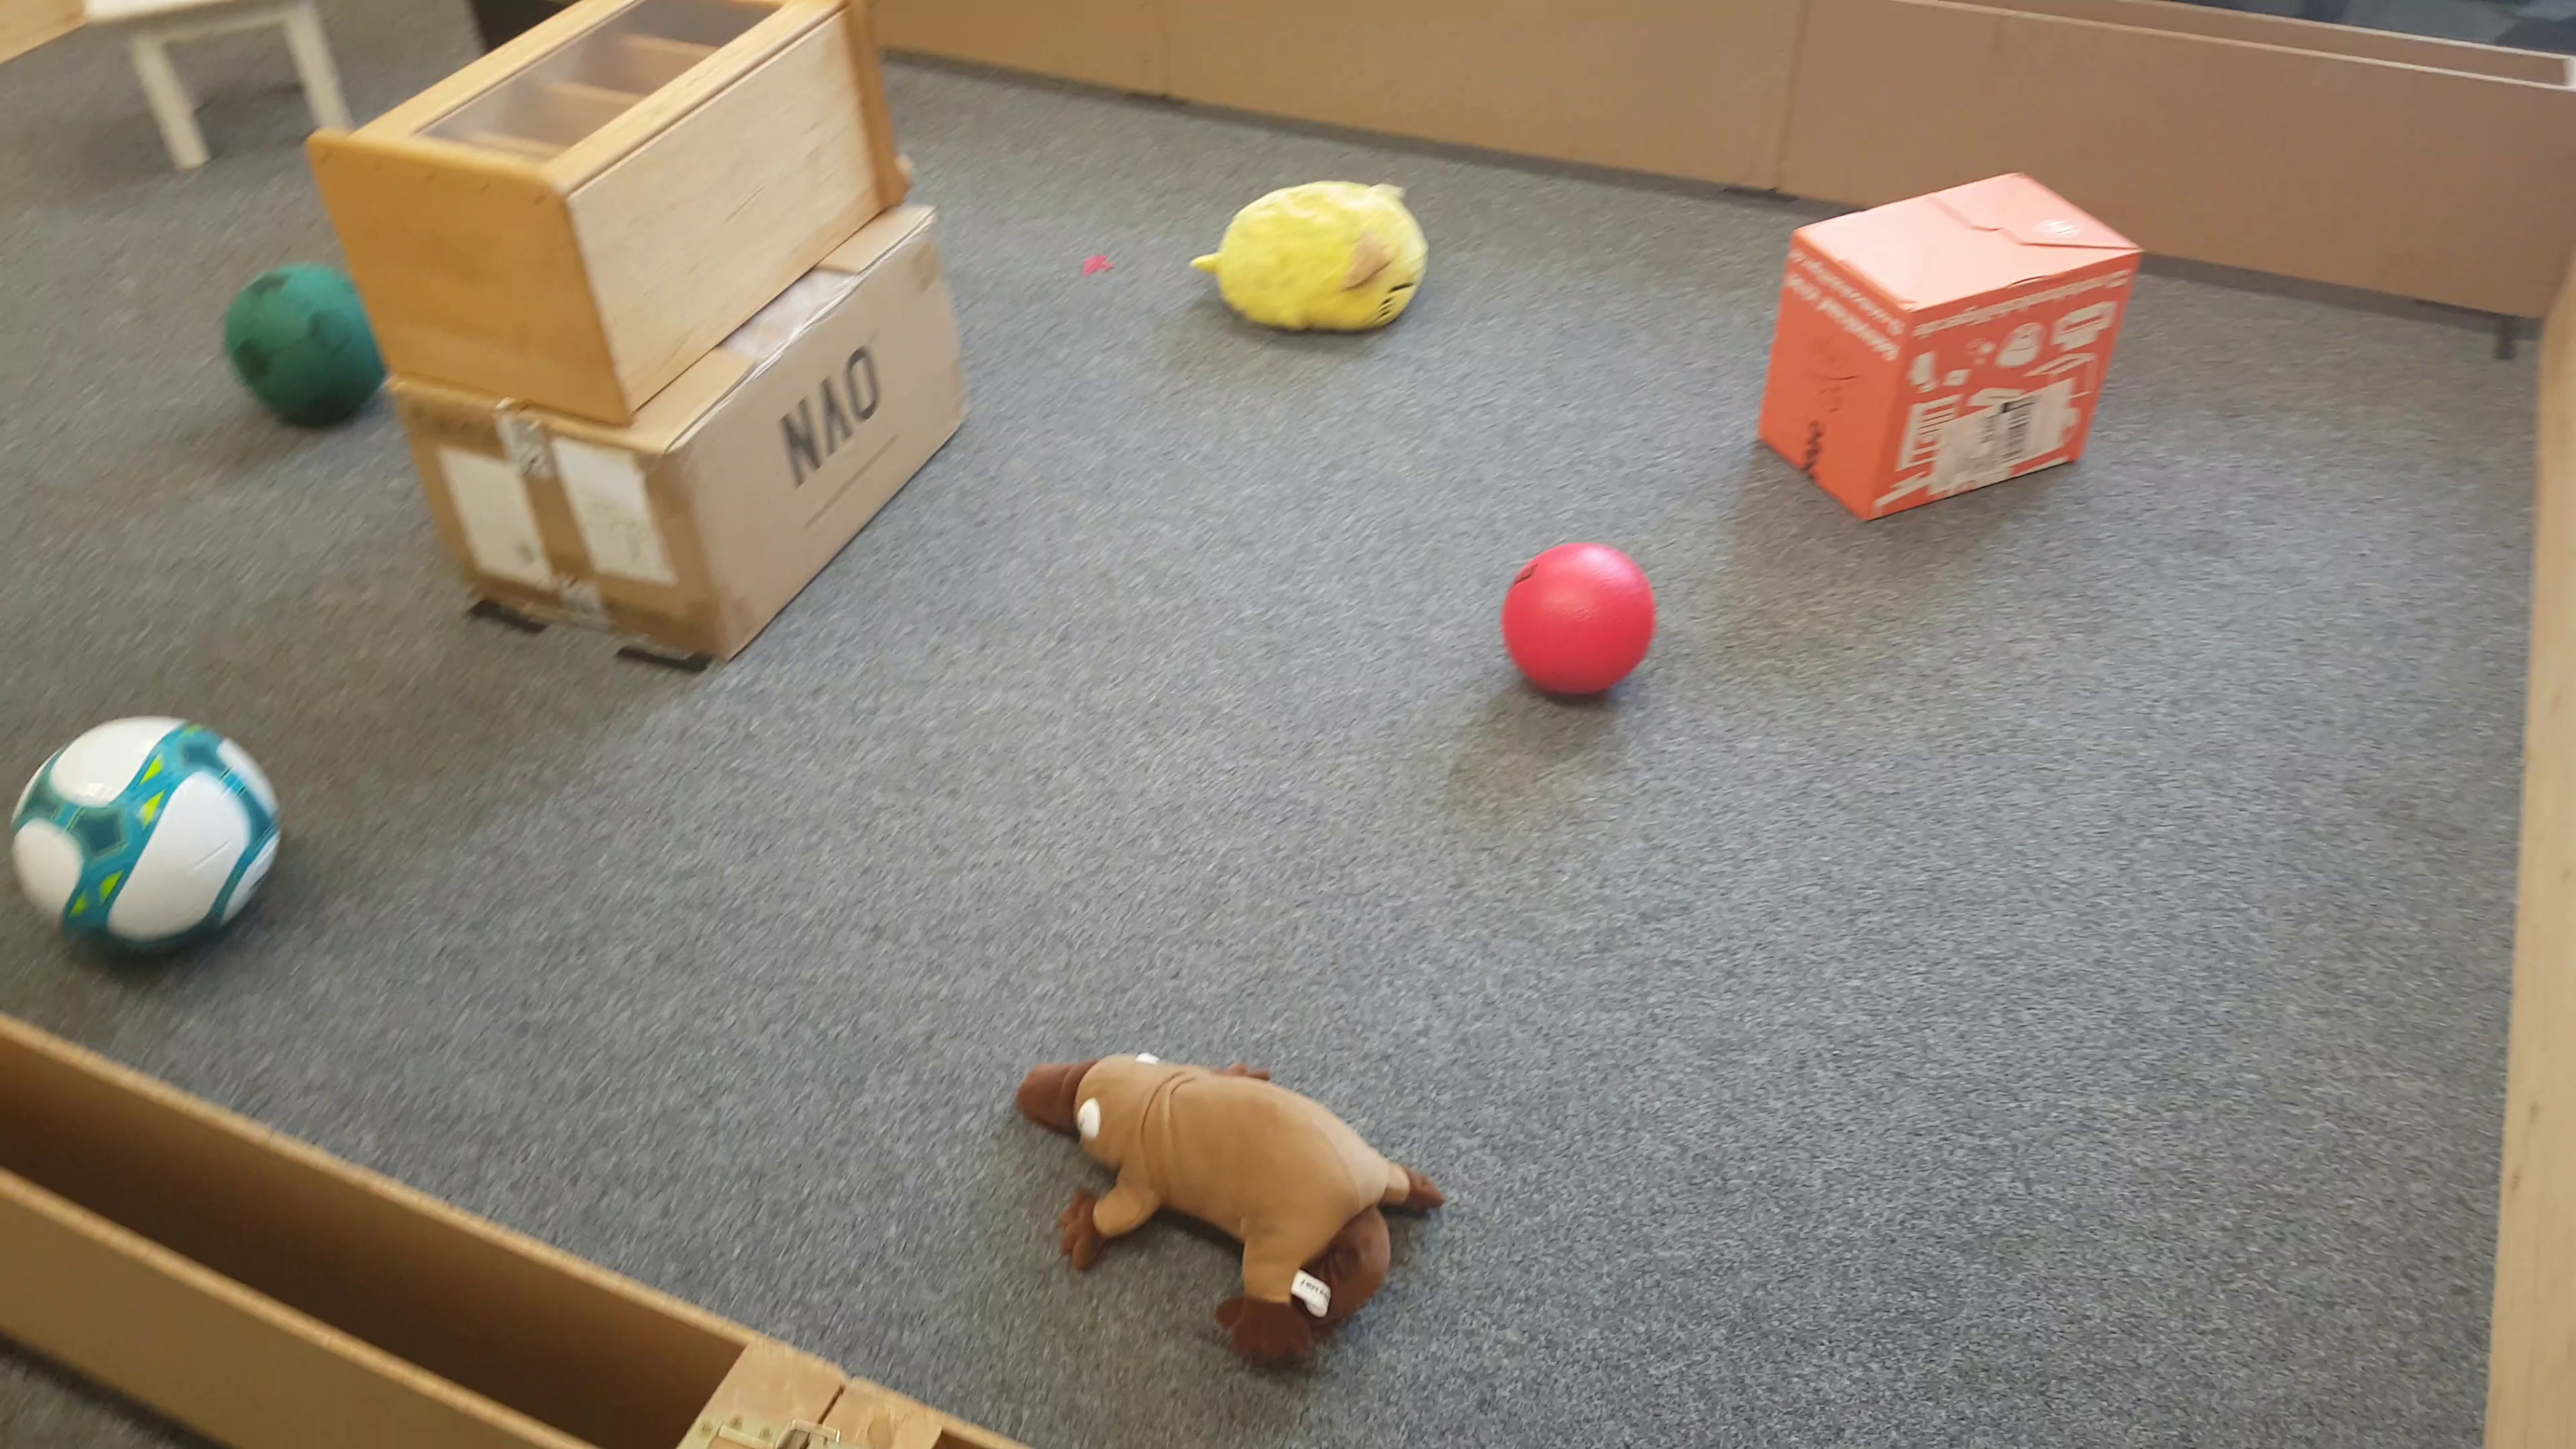grasp: (1012, 1053, 1440, 1369), (1196, 170, 1428, 336)
kick: (7, 720, 281, 957), (219, 258, 387, 428), (1507, 541, 1660, 702)
push: (1750, 170, 2144, 511)
